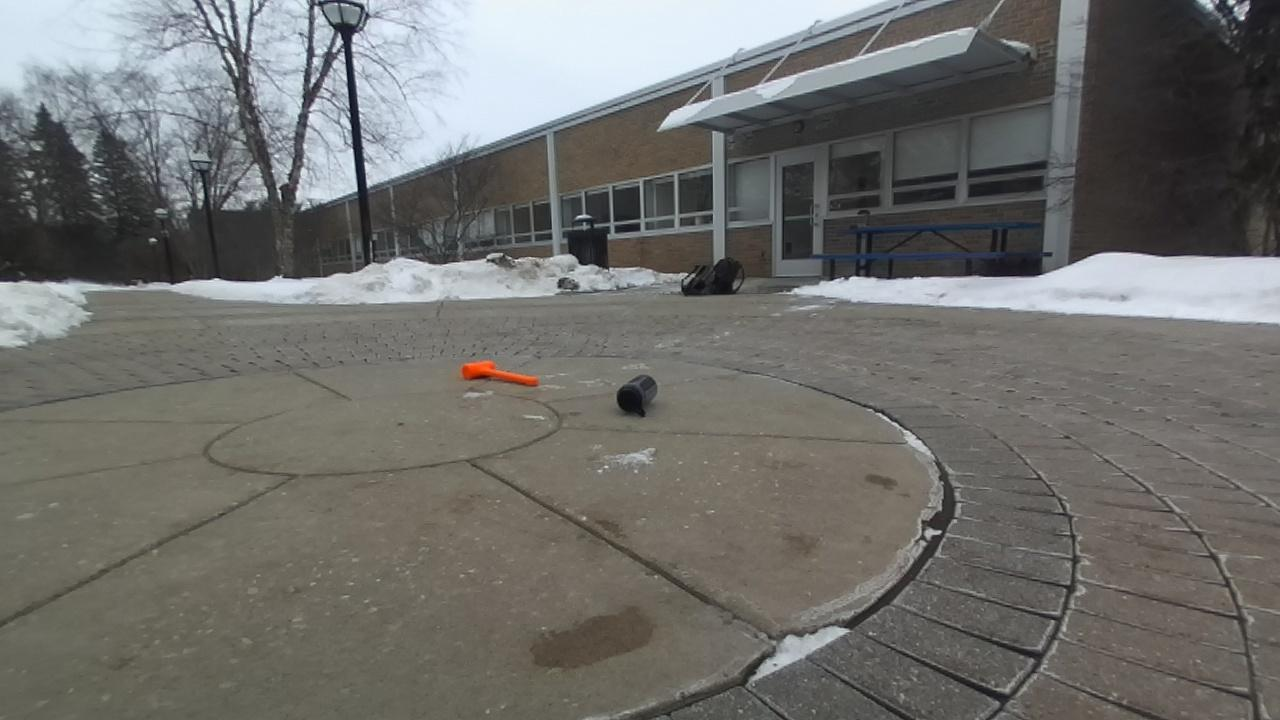bottle: (617, 374, 657, 416)
mallet: (462, 361, 538, 386)
